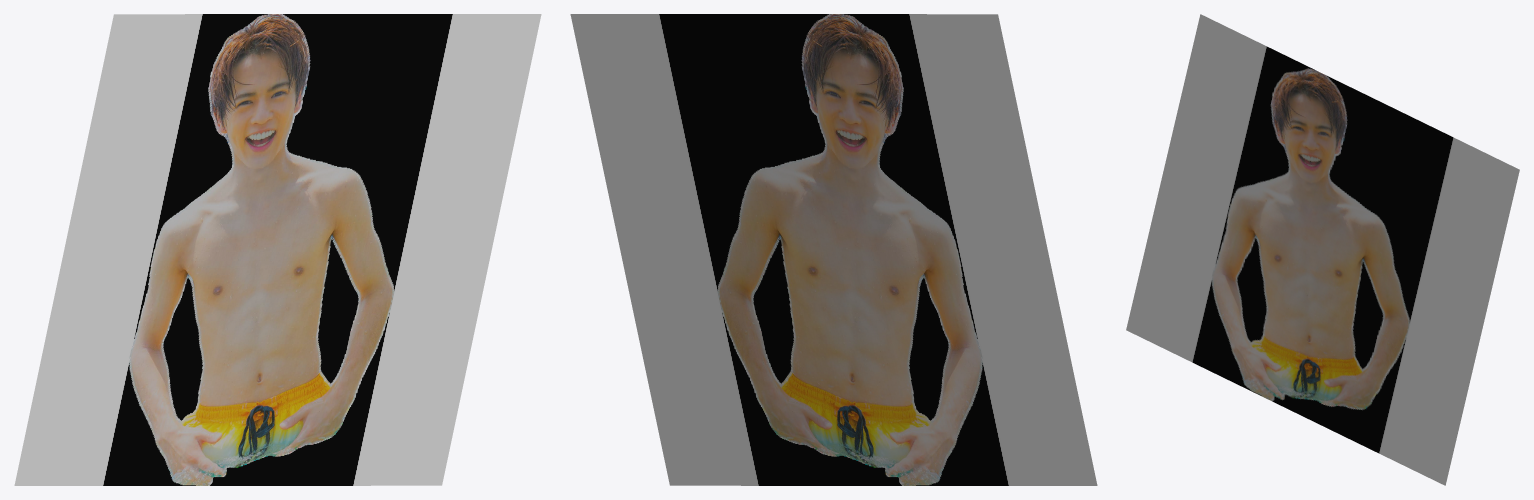
File: sou_okuno_2.gltf
3 renders of one model, left to right at view 1: azimuth 30°, elevation 25°; view 2: azimuth 150°, elevation 25°; view 3: azimuth 330°, elevation 25°, orthographic. The views are drawn at different scales.
Parts seen in each view (by area): view 1: 平面; view 2: 平面; view 3: 平面.
Boxes of the visible parts, x1,y1,x2,y2 form: 平面: (14,14,541,485); 平面: (570,14,1097,485); 平面: (1126,14,1519,485).
Bounding box in the file's own units: 12.01 × 12.01 × 2.22e-15.
1 material, 1 textured.
